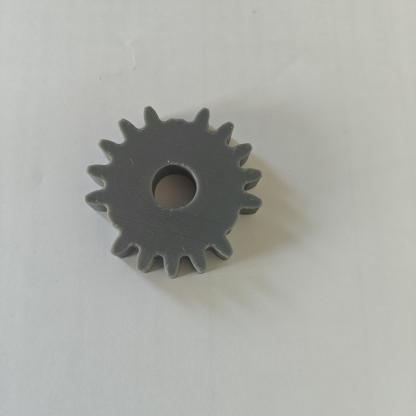defect: (131, 88, 224, 156), (200, 194, 276, 266), (64, 185, 141, 255)
gear: (58, 74, 296, 304)
